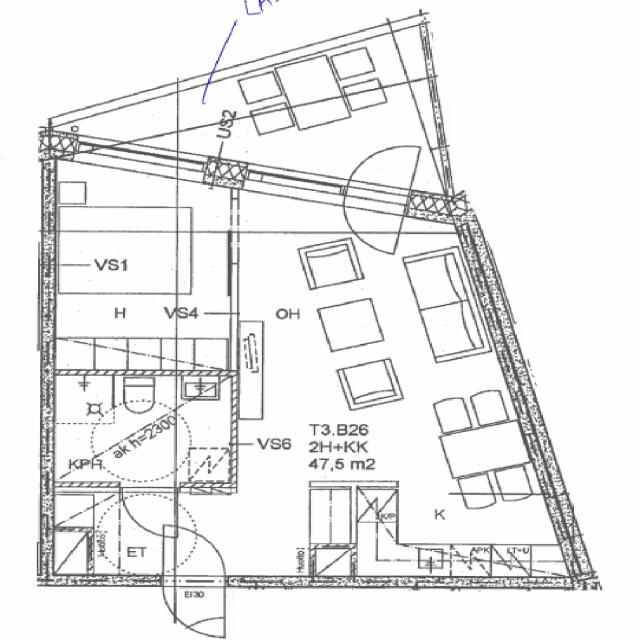door: (343, 130, 423, 217), (330, 180, 410, 267), (163, 575, 225, 640), (163, 524, 225, 589), (122, 486, 176, 536)
